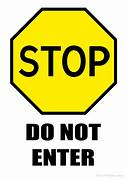stop: (10, 7, 118, 116)
